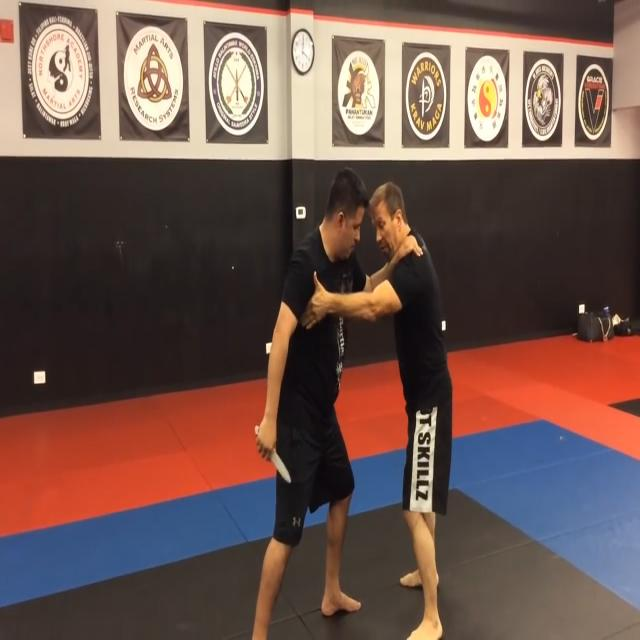knife: (268, 442, 296, 490)
